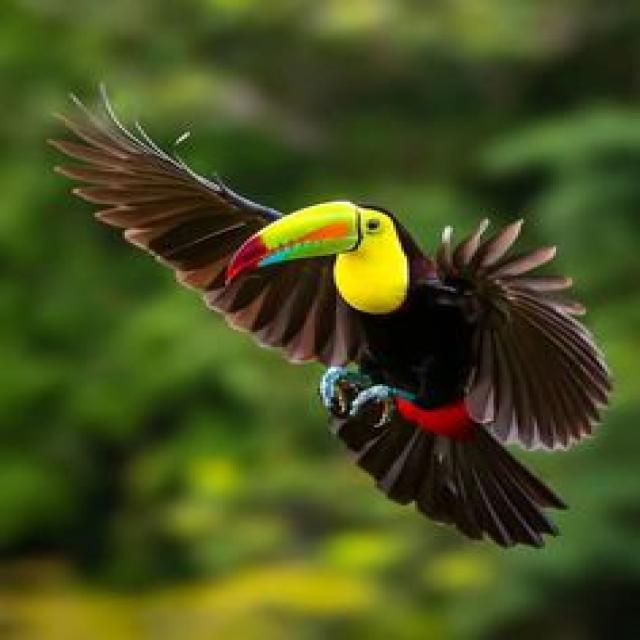Herbivorous: (43, 89, 616, 551)
